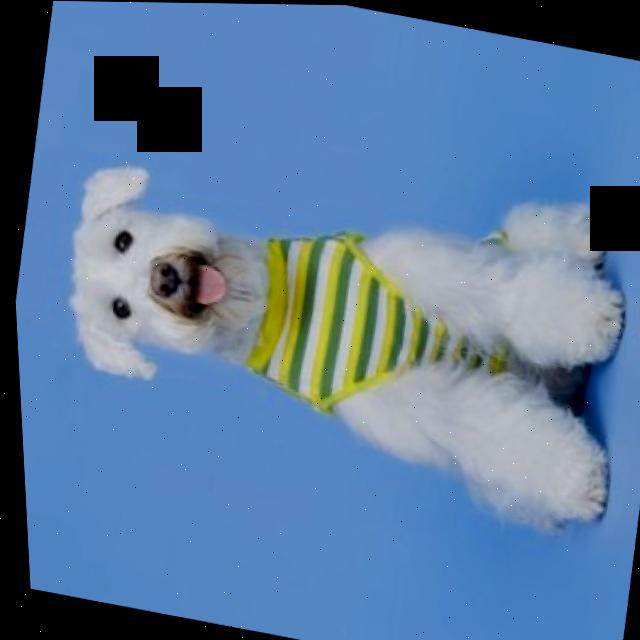cloth: (241, 234, 502, 412)
